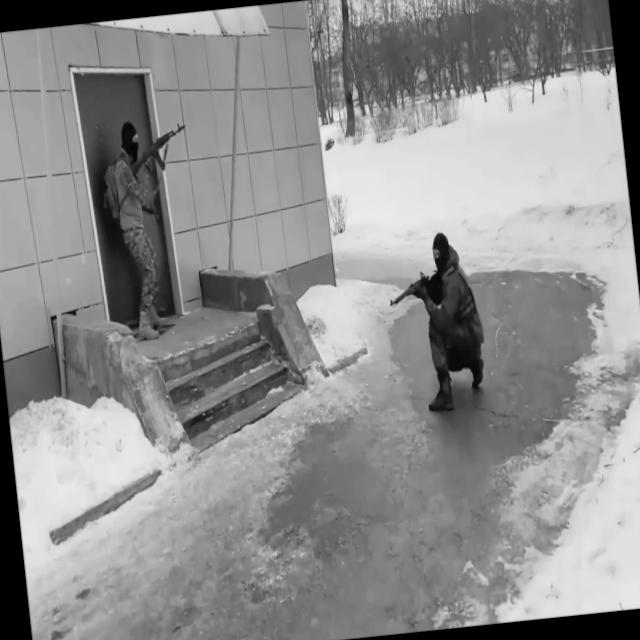gun: (126, 121, 190, 181), (384, 266, 444, 314)
person with a gun: (98, 112, 208, 344), (381, 226, 492, 416)
